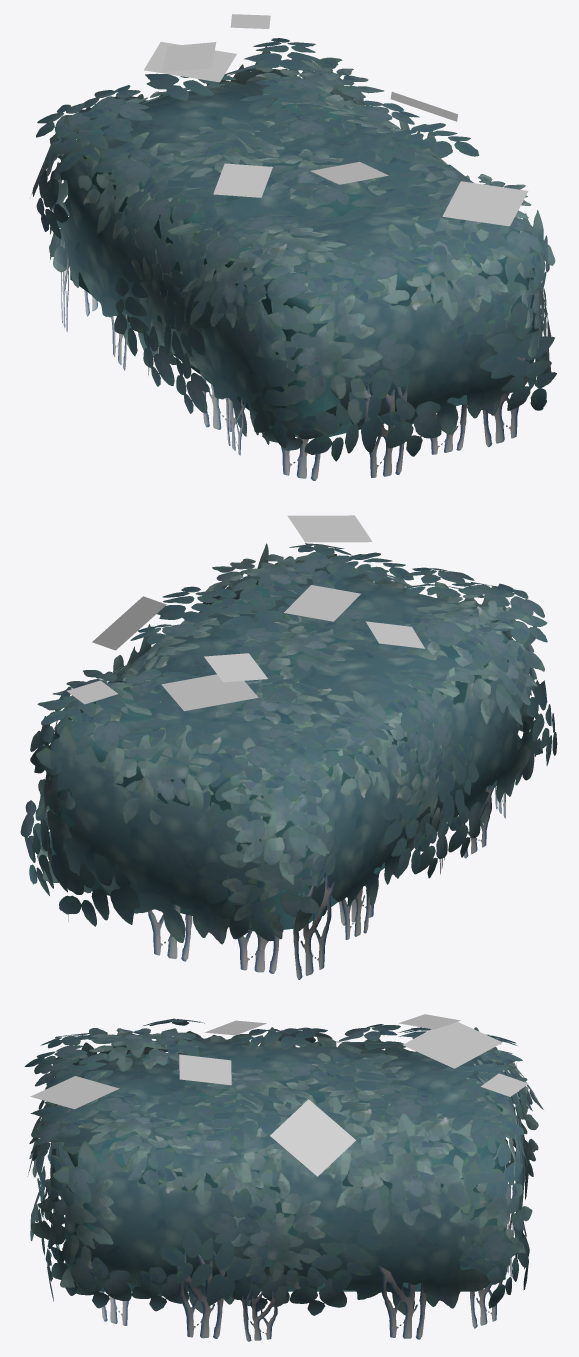
The model's file is pref_sm_beach_winter_techvegetation01_lv3.fbx.
The picture shows the model from 3 angles, top to bottom: view 1: azimuth 30°, elevation 25°; view 2: azimuth 150°, elevation 25°; view 3: azimuth 270°, elevation 25°; orthographic projection. The views are drawn at different scales.
Parts seen in each view (by area): view 1: pref_sm_beach_winter_techvegetation01_lv3, sm_beach_winter_techvegetation01b_lv3; view 2: pref_sm_beach_winter_techvegetation01_lv3, sm_beach_winter_techvegetation01b_lv3; view 3: pref_sm_beach_winter_techvegetation01_lv3, sm_beach_winter_techvegetation01b_lv3.
Boxes of the visible parts, bbox=[...] form: pref_sm_beach_winter_techvegetation01_lv3: bbox=[31, 38, 556, 480]; sm_beach_winter_techvegetation01b_lv3: bbox=[144, 14, 528, 226]; pref_sm_beach_winter_techvegetation01_lv3: bbox=[20, 543, 557, 979]; sm_beach_winter_techvegetation01b_lv3: bbox=[67, 515, 424, 711]; pref_sm_beach_winter_techvegetation01_lv3: bbox=[24, 1018, 543, 1341]; sm_beach_winter_techvegetation01b_lv3: bbox=[30, 1014, 528, 1176].
Size of the model in its own units: 3.09 by 2.2 by 4.39.
